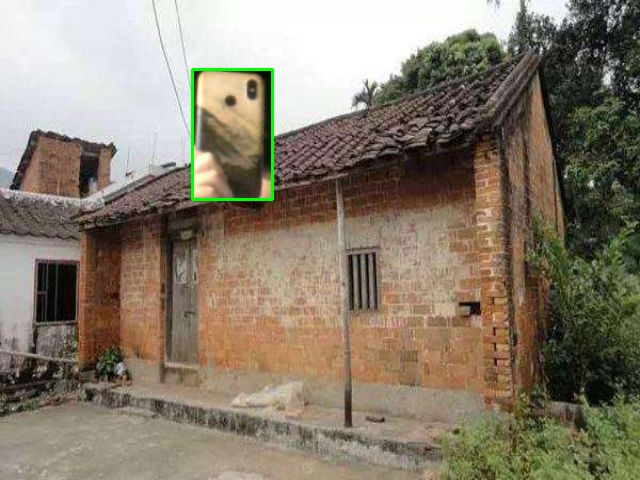UsingPhone: (192, 69, 272, 199)
